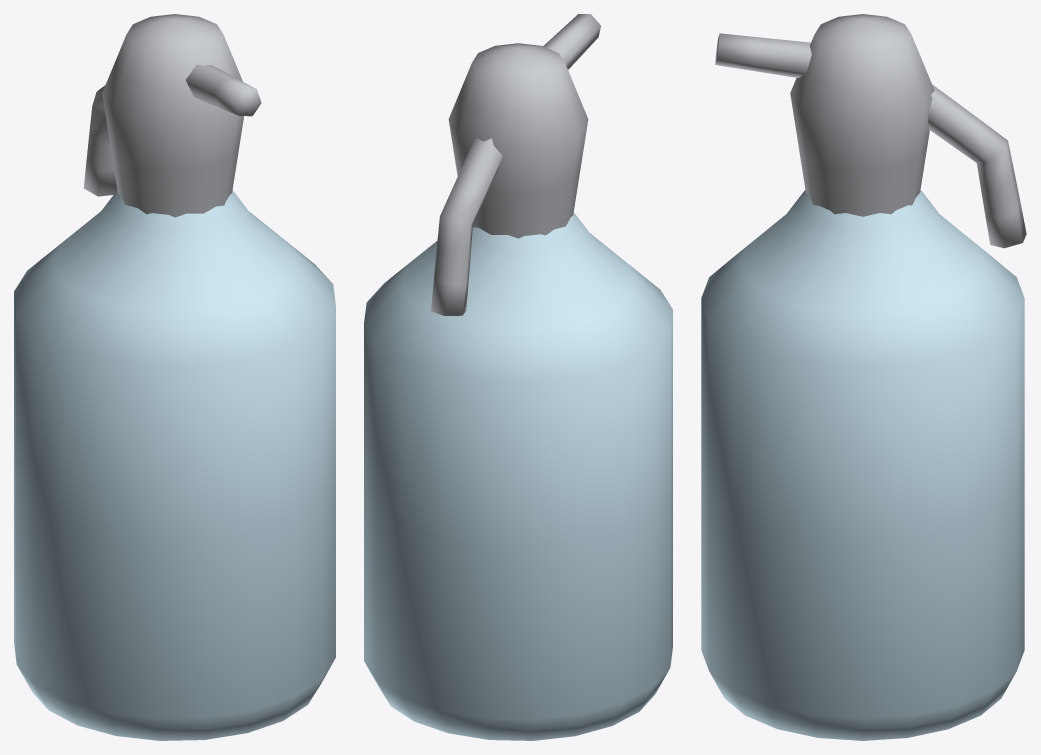
The model's file is fungicide.glb.
3 renders of one model, left to right at view 1: azimuth 30°, elevation 25°; view 2: azimuth 150°, elevation 25°; view 3: azimuth 270°, elevation 25°, orthographic. The views are drawn at different scales.
Parts seen in each view (by area): view 1: Fungicide; view 2: Fungicide; view 3: Fungicide.
Boxes of the visible parts, x1,y1,x2,y2 form: Fungicide: [14, 14, 335, 740]; Fungicide: [364, 14, 672, 740]; Fungicide: [701, 14, 1026, 740].
Size of the model in its own units: 0.2 by 0.45 by 0.2012.
